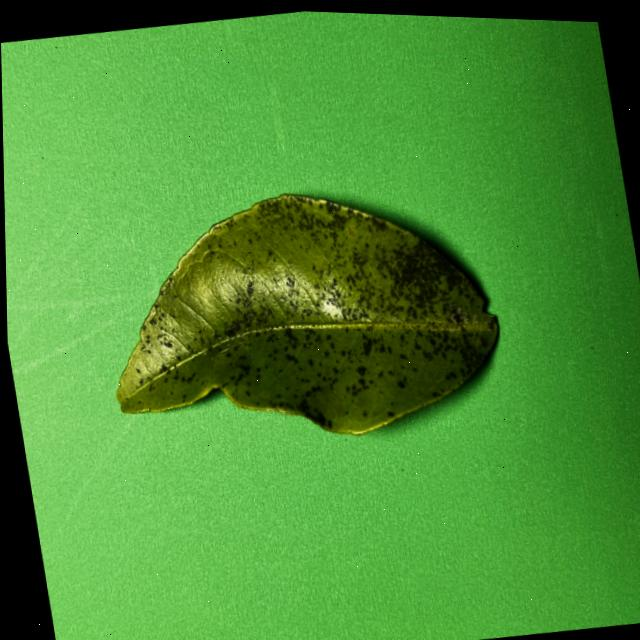sooty_mold: (117, 193, 488, 433)
